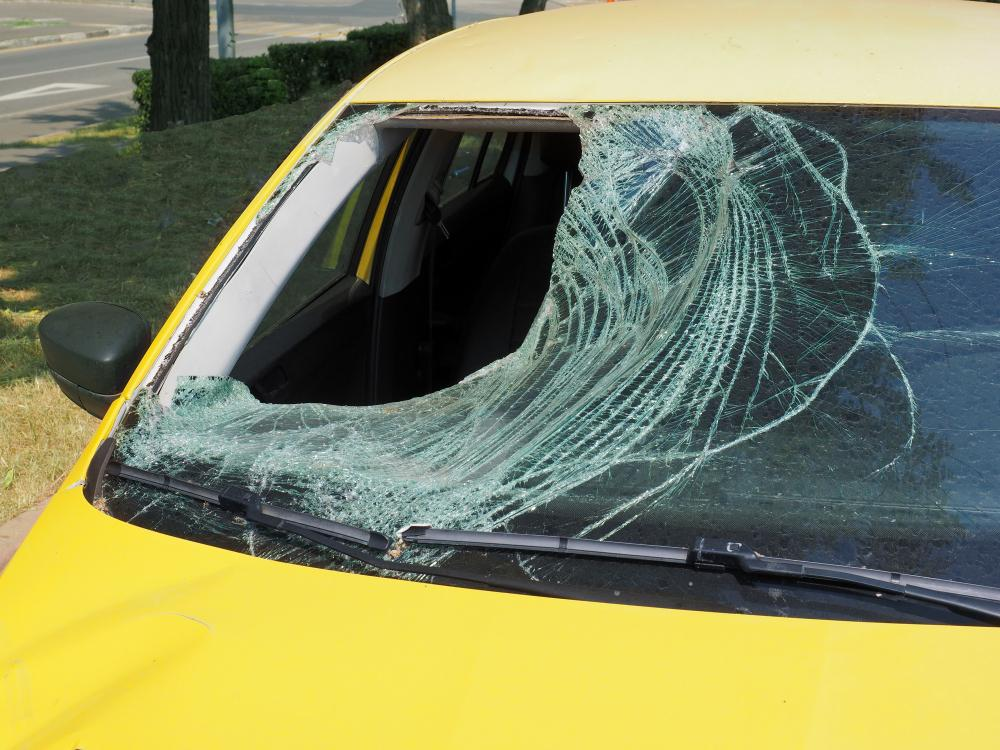glass shatter: (92, 104, 1000, 627)
